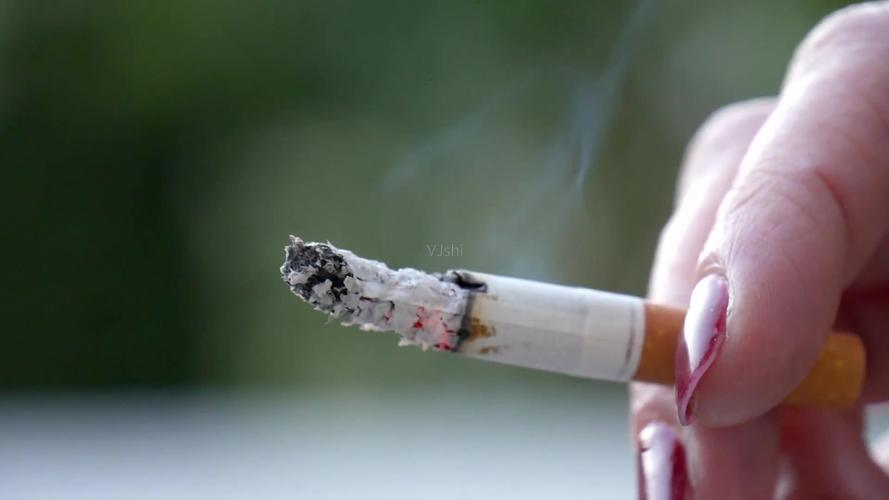smoke: (279, 233, 867, 403)
